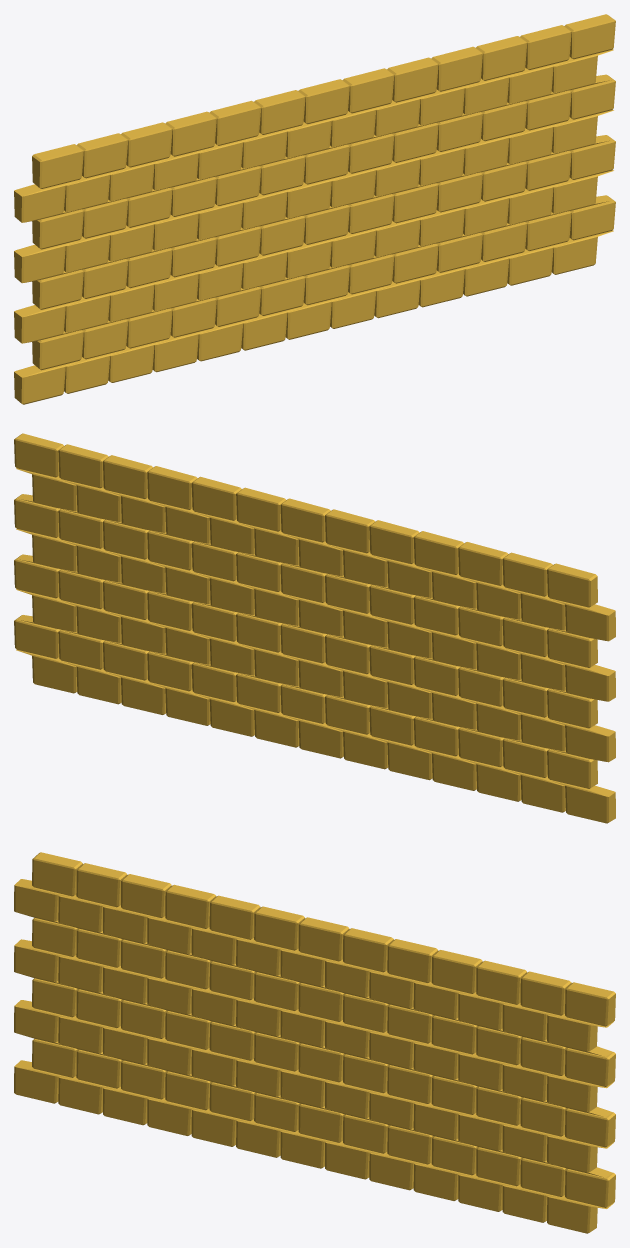
File: Muro3.fbx
3 views of the same model, one above another, from view 1: azimuth 30°, elevation 25°; view 2: azimuth 150°, elevation 25°; view 3: azimuth 330°, elevation 25° (orthographic).
Visible parts, largest first — view 1: Muro3; view 2: Muro3; view 3: Muro3.
Boxes of the visible parts, x1,y1,x2,y2 form: Muro3: [14, 14, 615, 404]; Muro3: [14, 433, 615, 823]; Muro3: [14, 852, 615, 1233].
Bounding box in the file's own units: 1963 × 762 × 47.43.
